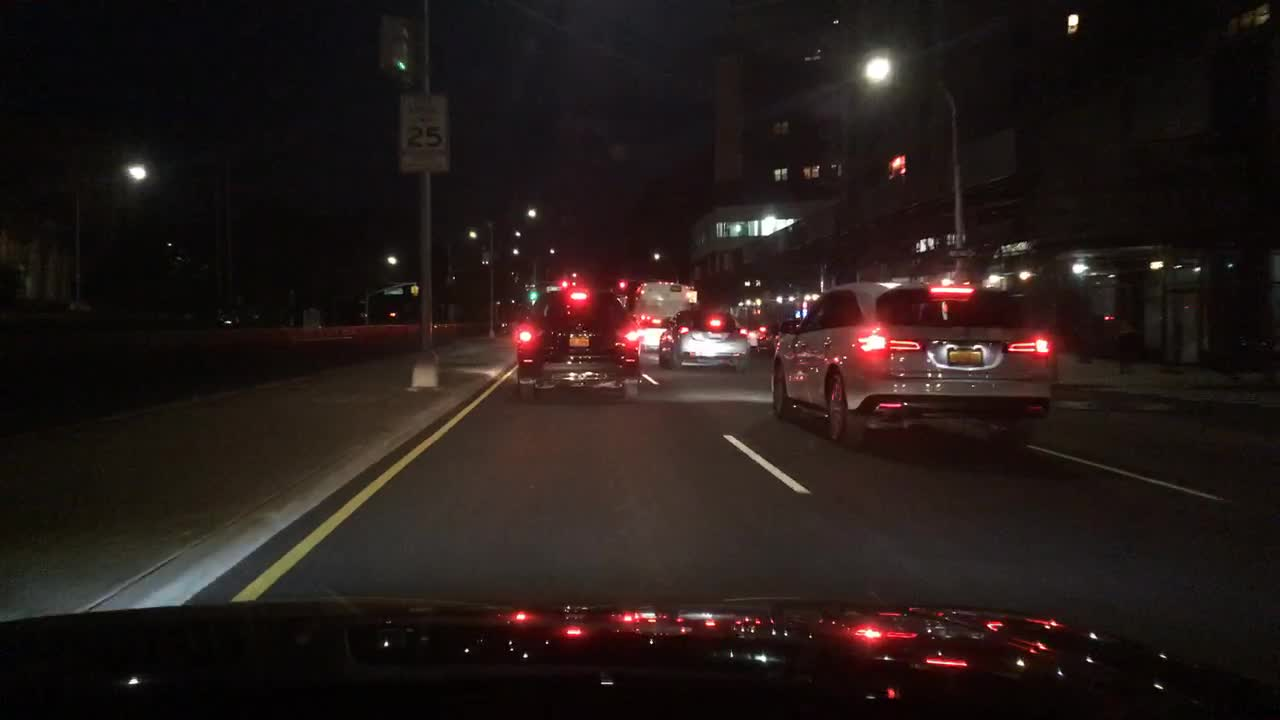bus: (633, 276, 699, 356)
car: (768, 278, 1057, 453), (512, 284, 641, 405), (662, 304, 748, 378), (212, 304, 260, 330), (742, 319, 767, 350), (761, 326, 790, 350)
person: (1110, 308, 1144, 375)
traffic light: (381, 18, 411, 75), (407, 283, 420, 295), (616, 276, 627, 289), (527, 289, 536, 301)
traffic sign: (400, 94, 447, 170), (948, 244, 977, 258), (383, 289, 400, 295)
